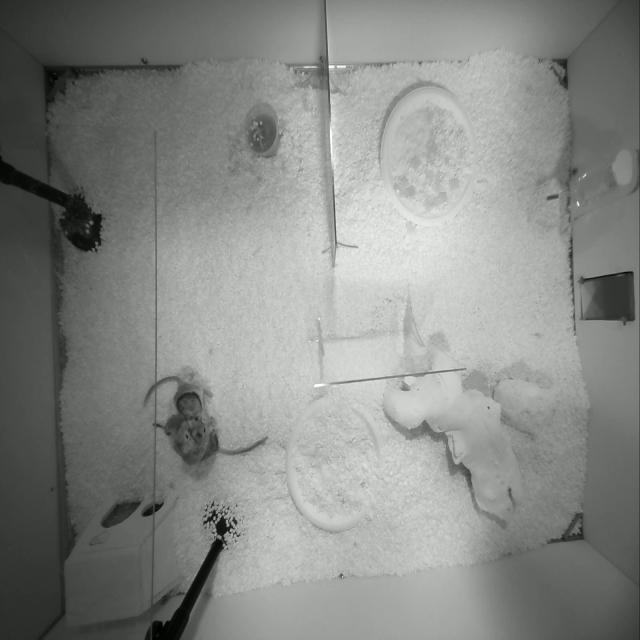adult_back: (178, 418, 266, 464)
adult_front: (145, 376, 207, 443)
pup_v_stripe: (154, 410, 192, 454)
